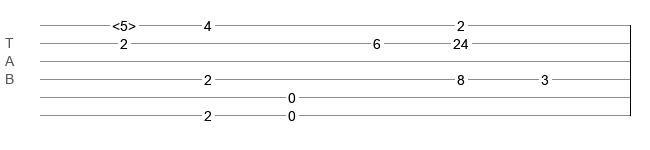0: (288, 90, 296, 100), (288, 108, 296, 118)
2: (120, 36, 128, 46), (204, 72, 212, 82), (204, 108, 212, 118), (457, 18, 465, 28)
24: (453, 36, 469, 46)
3: (541, 72, 549, 82)
4: (204, 18, 212, 28)
6: (373, 36, 381, 46)
8: (457, 72, 465, 82)
harmonic: (112, 18, 136, 28)
